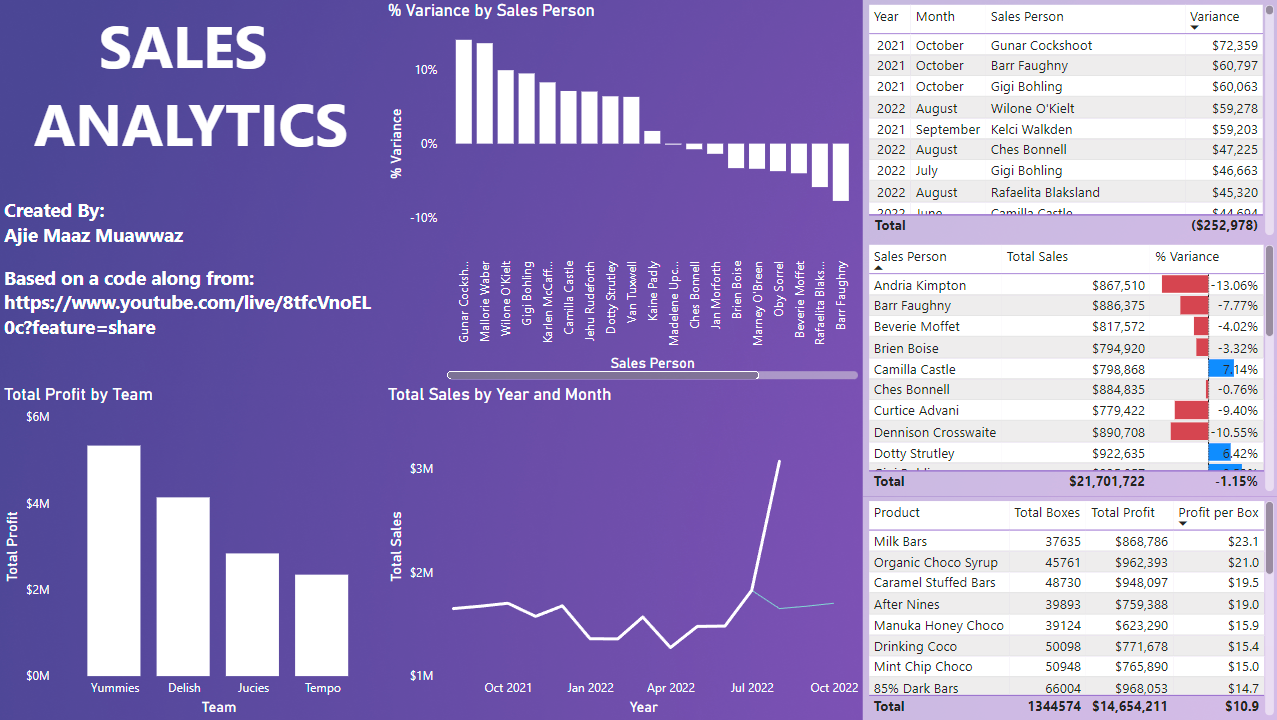

This screenshot's page, from the dashboard's own definition file:
{"tool":"powerbi","page":{"name":"Page 1","canvas":[1280,720],"ordinal":0},"visuals":[{"type":"tableEx","fields":{"Values":["Sales Person Lookup.Sales Person","Measures Table.Total Sales","Measures Table.% Variance"]},"box":[864,240,416,256],"z":0},{"type":"columnChart","fields":{"Category":["Sales Person Lookup.Sales Person"],"Y":["Measures Table.% Variance"]},"box":[384,0,480,384],"z":1000},{"type":"tableEx","fields":{"Values":["Calendar Lookup.Date.Variation.Date Hierarchy.Year","Calendar Lookup.Date.Variation.Date Hierarchy.Month","Sales Person Lookup.Sales Person","Measures Table.Variance"]},"box":[864,0,416,240],"z":2000},{"type":"tableEx","fields":{"Values":["Actuals.Product","Measures Table.Total Boxes","Measures Table.Total Profit","Measures Table.Profit per Box"]},"box":[864,496,416,224],"z":3000},{"type":"clusteredColumnChart","fields":{"Category":["Actuals.Team"],"Y":["Measures Table.Total Profit"]},"box":[0,384,384,336],"z":4000},{"type":"lineChart","fields":{"Category":["Calendar Lookup.Date.Variation.Date Hierarchy.Year","Calendar Lookup.Date.Variation.Date Hierarchy.Month"],"Y":["Measures Table.Total Sales"]},"box":[384,384,480,336],"z":5000},{"type":"textbox","box":[0,0,384,192],"z":6000},{"type":"textbox","box":[0,192,384,192],"z":7000}]}

Visuals, with their boxes in screenshot pixels (x1, y1, x2, y2), scaled from the page's 1280x720 canvas onto the 1277x720 screenshot:
tableEx - Sales Person Lookup.Sales Person x Measures Table.Total Sales: bbox(862, 240, 1276, 496)
columnChart - Sales Person Lookup.Sales Person x Measures Table.% Variance: bbox(383, 0, 862, 384)
tableEx - Calendar Lookup.Date.Variation.Date Hierarchy.Year x Calendar Lookup.Date.Variation.Date Hierarchy.Month: bbox(862, 0, 1276, 240)
tableEx - Actuals.Product x Measures Table.Total Boxes: bbox(862, 496, 1276, 719)
clusteredColumnChart - Actuals.Team x Measures Table.Total Profit: bbox(0, 384, 383, 719)
lineChart - Calendar Lookup.Date.Variation.Date Hierarchy.Year x Calendar Lookup.Date.Variation.Date Hierarchy.Month: bbox(383, 384, 862, 719)
textbox: bbox(0, 0, 383, 192)
textbox: bbox(0, 192, 383, 384)
